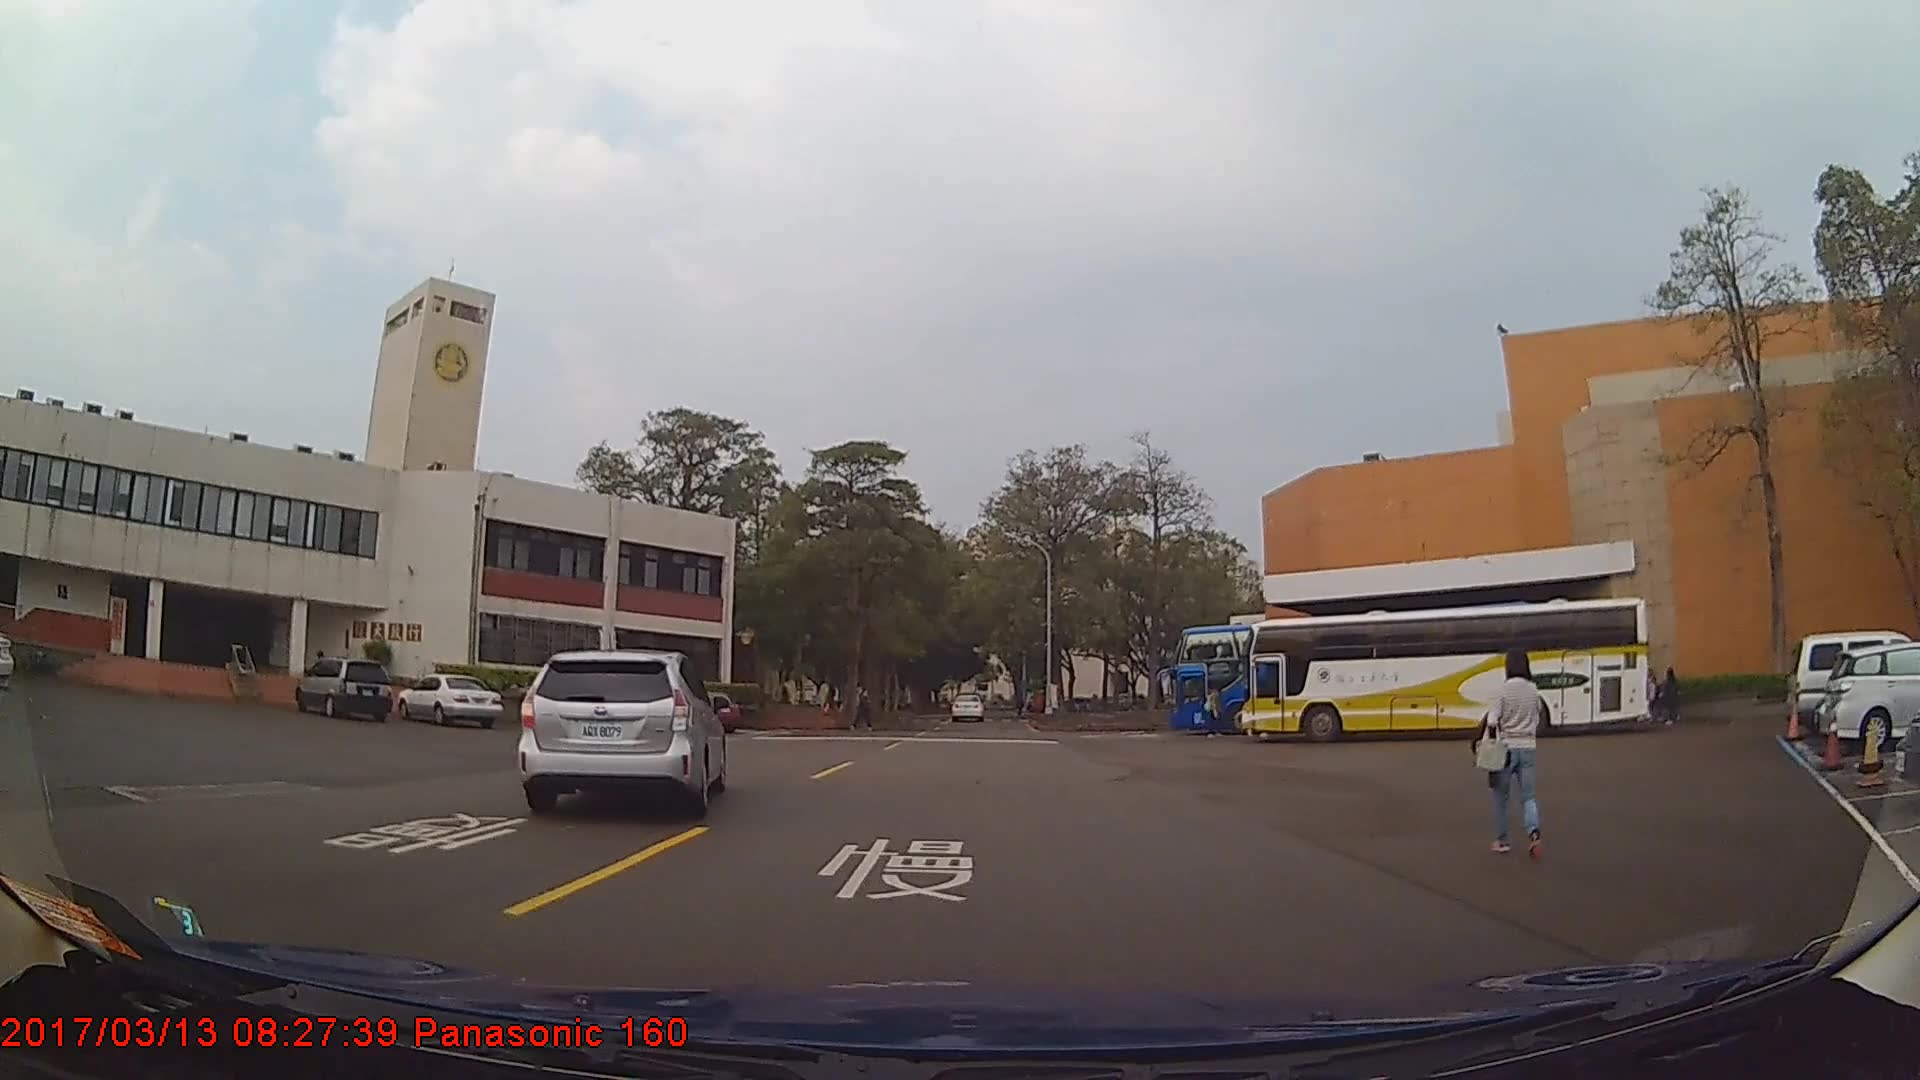pedestrian: (1474, 648, 1545, 855), (1656, 663, 1693, 730), (848, 681, 875, 731)
vehicle: (1237, 595, 1652, 747), (1166, 624, 1512, 738), (518, 646, 728, 813), (1783, 631, 1910, 733), (1816, 641, 1920, 751), (290, 659, 391, 721), (393, 673, 501, 725), (951, 693, 985, 722)
